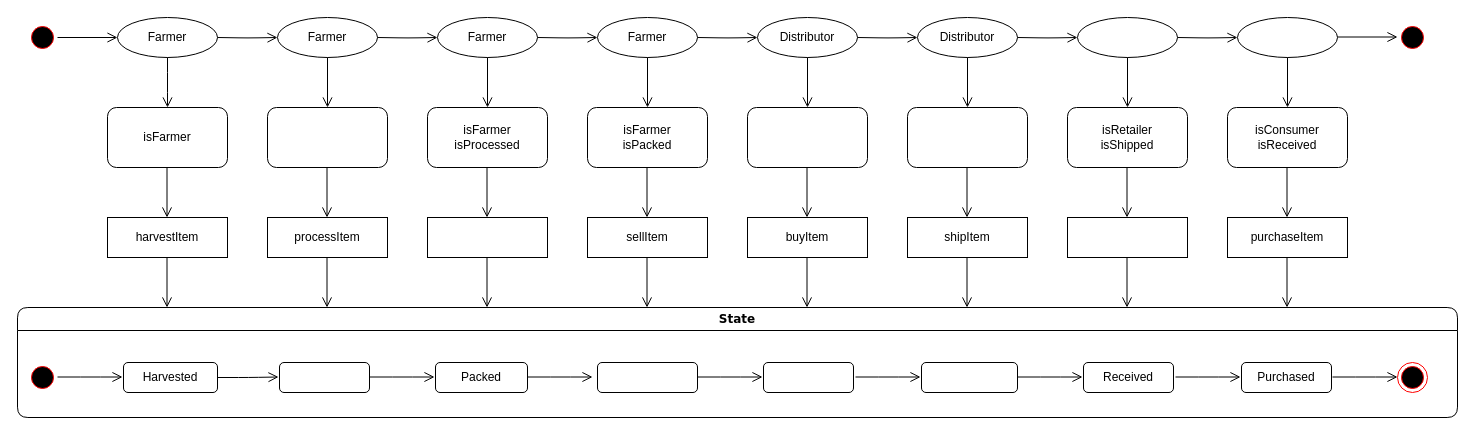
This 1475x435 diagram has some shape labels left out. The shapes that lost their labels are listed below. From the top down, each one's centre as x and y in pixels, then its label:
point 1127,37: Retailer
point 1287,37: Consumer
point 327,137: isFarmer isHarvested
point 807,137: isDistributor isForSell isPaidEnough
point 967,137: isDistributor isSold
point 487,237: packItem
point 1127,237: receiveItem
point 324,377: Processed
point 647,377: Forsell
point 808,377: Sold
point 969,377: Shipped
